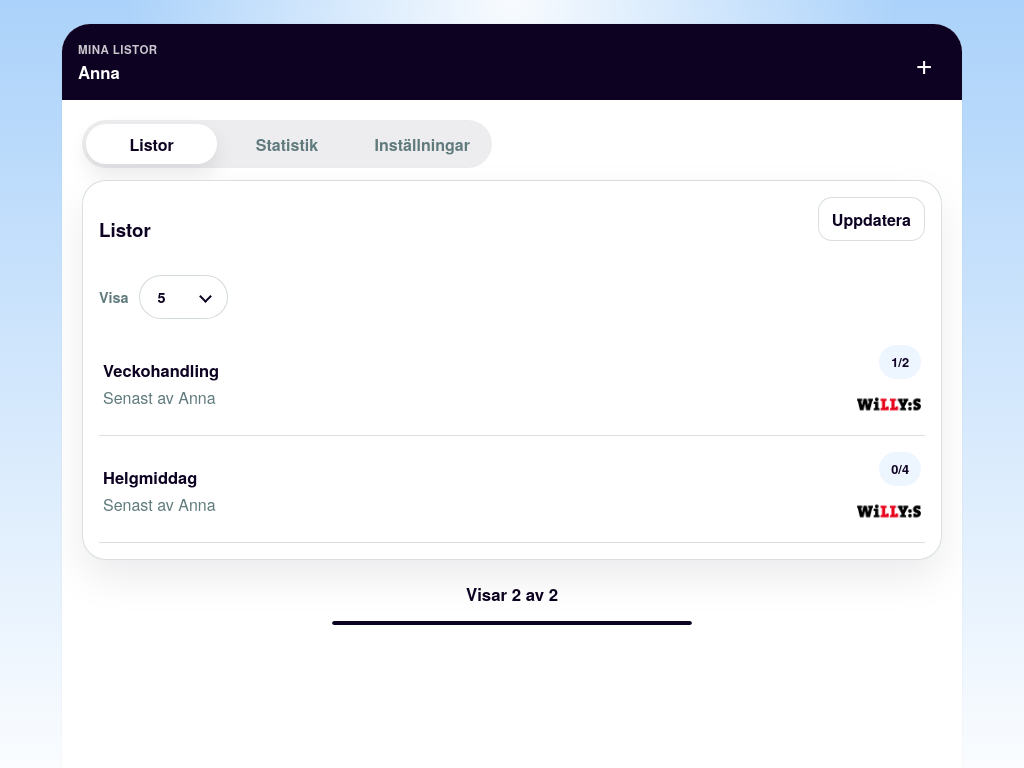
ListsOverviewPage › archives a list after swiping left and confirming removal
This screenshot has width=1024, height=768.
Expected: the text "Helgmiddag" is shown, [103,465,197,489]
Press the mouse on the link "Veckohandling Senast av Anna 1/2" at x=161, y=370, box [99,331,925,435]
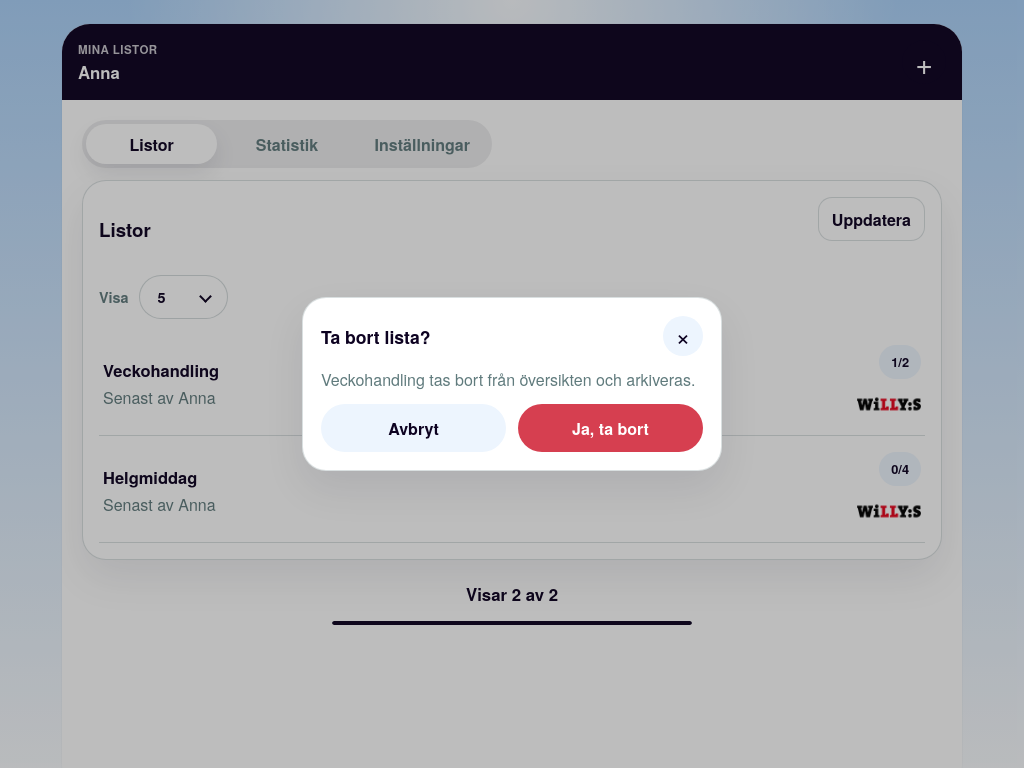
Expected: the heading "Ta bort lista?" is shown, [321,324,431,348]
Expected: the text "Veckohandling tas bort från översikten och arkiveras." is shown, [321,368,703,392]
Click the button "Ja, ta bort". click: x=610, y=428
box: [518,404,703,452]
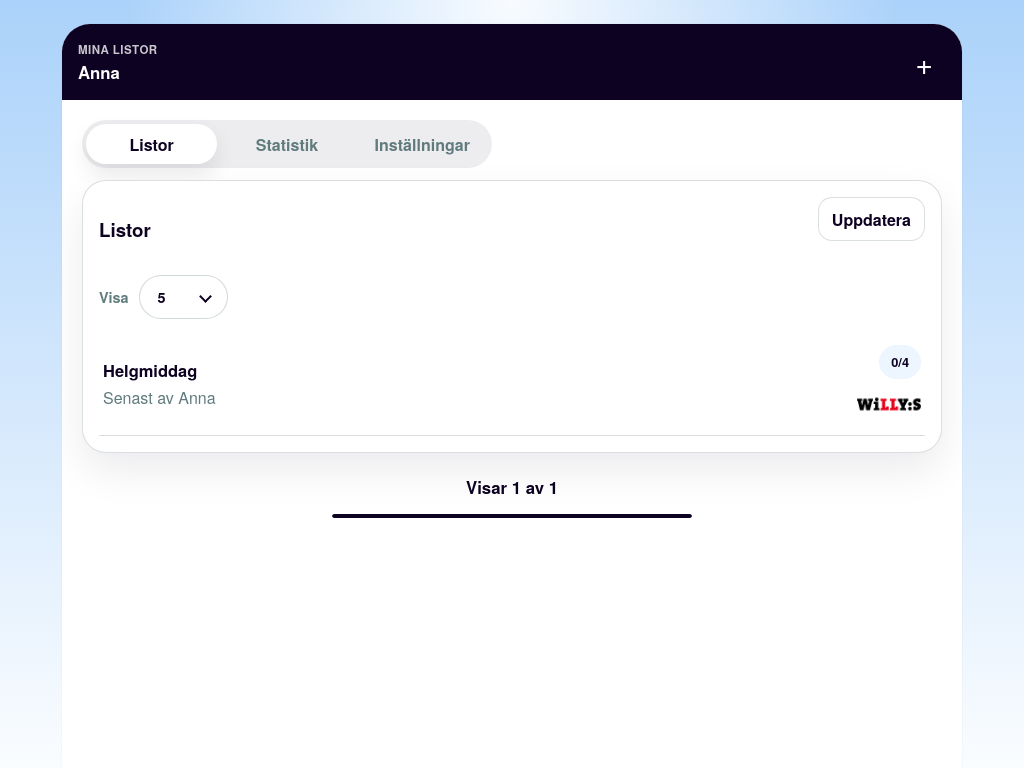
Expected: the text "Helgmiddag" is shown, [103,358,197,382]
Expected: the link "Veckohandling" is gone
Expected: the text "Visar 1 av 1" is shown, [466,477,558,498]
